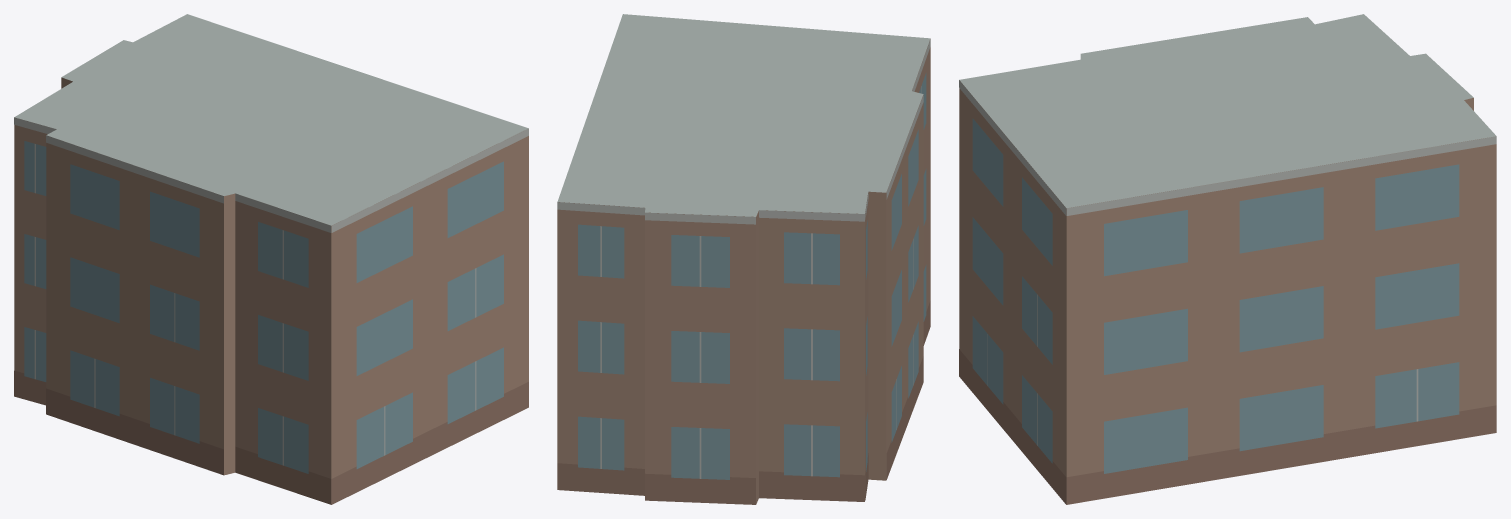
The model's file is survey-upis-32834296.glb.
3 views of the same model, side by side, from view 1: azimuth 30°, elevation 25°; view 2: azimuth 150°, elevation 25°; view 3: azimuth 270°, elevation 25° (orthographic). The views are drawn at different scales.
Parts seen in each view (by area): view 1: survey-upis-32834296.tmp; view 2: survey-upis-32834296.tmp; view 3: survey-upis-32834296.tmp.
Boxes of the visible parts, <box> form: survey-upis-32834296.tmp: <box>14,14,528,504</box>; survey-upis-32834296.tmp: <box>557,14,930,504</box>; survey-upis-32834296.tmp: <box>959,14,1496,504</box>.
Bounding box in the file's own units: 12.86 × 9.15 × 15.04.
